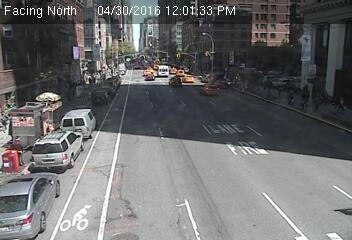neg: (66, 128, 97, 169), (103, 91, 126, 122), (240, 167, 263, 198), (42, 112, 65, 142), (16, 71, 39, 101), (150, 161, 172, 190), (104, 28, 124, 55), (76, 203, 96, 230), (268, 127, 288, 154), (195, 176, 215, 202), (291, 40, 310, 66), (166, 135, 185, 161), (58, 38, 76, 62), (186, 44, 204, 68), (109, 133, 127, 156), (154, 41, 171, 64), (258, 34, 273, 54), (204, 125, 219, 145), (135, 30, 148, 49), (313, 52, 326, 71), (103, 177, 116, 195), (230, 38, 239, 50)
pos: (334, 96, 348, 115), (284, 89, 297, 107)
